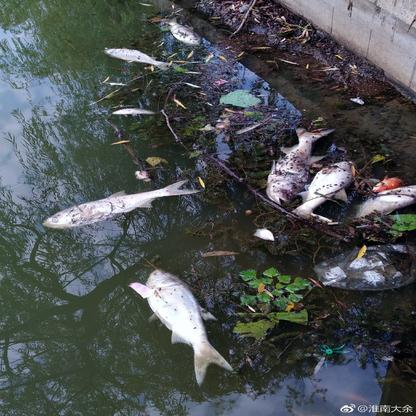deceased fish: (133, 265, 233, 388), (32, 172, 203, 230), (267, 123, 336, 203), (294, 156, 354, 223), (357, 177, 416, 225), (105, 45, 171, 70), (162, 16, 202, 46), (107, 103, 161, 118)
